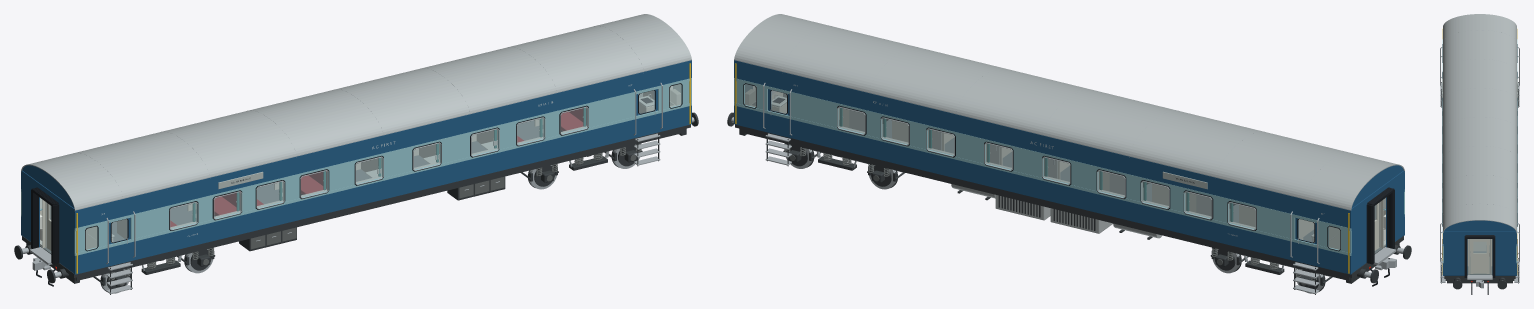
File: ICF_1A.fbx
The picture shows the model from 3 angles, left to right: view 1: azimuth 30°, elevation 25°; view 2: azimuth 150°, elevation 25°; view 3: azimuth 270°, elevation 25°; orthographic projection. The views are drawn at different scales.
Parts seen in each view (by area): view 1: Pressed steel roof shell, Lower blue bodyside, Upper blue letterboard, Longitudinal underframe solebar, Structural coach floor, Cyan horizontal window band, Cyan horizontal window band.001, Finished lino floor, Window zone pier.011, Coach end wall, Window zone pier.002, Window zone pier.007 (+13 smaller); view 2: Pressed steel roof shell, Lower blue bodyside.001, Upper blue letterboard.001, Longitudinal underframe solebar.001, Structural coach floor, Cyan horizontal window band.002, Cyan horizontal window band.003, Window zone pier.024, Coach end wall.001, Window zone pier.015, Finished lino floor, Underslung air conditioning condenser (+15 smaller); view 3: Pressed steel roof shell, Coach end wall.002, Coach end wall.003, Curved end roof cap.001, End top header.001, Vestibule lower door.001, Buffer beam, Cyan horizontal window band.001, Cyan horizontal window band.003, Finished lino floor, Saloon end bulkhead.002, Gangway bellows pleat.026 (+10 smaller).
Boxes of the visible parts, x1=… form: Pressed steel roof shell: x1=21, y1=14, x2=691, y2=211; Lower blue bodyside: x1=74, y1=105, x2=691, y2=274; Upper blue letterboard: x1=74, y1=60, x2=691, y2=229; Longitudinal underframe solebar: x1=75, y1=128, x2=686, y2=280; Structural coach floor: x1=22, y1=124, x2=690, y2=277; Cyan horizontal window band: x1=74, y1=103, x2=691, y2=255; Cyan horizontal window band.001: x1=74, y1=78, x2=691, y2=231; Finished lino floor: x1=40, y1=119, x2=543, y2=253; Window zone pier.011: x1=587, y1=94, x2=635, y2=127; Coach end wall: x1=57, y1=198, x2=74, y2=273; Window zone pier.002: x1=130, y1=208, x2=169, y2=239; Window zone pier.007: x1=382, y1=149, x2=412, y2=177; Pressed steel roof shell: x1=734, y1=14, x2=1404, y2=210; Lower blue bodyside.001: x1=734, y1=105, x2=1351, y2=274; Upper blue letterboard.001: x1=734, y1=60, x2=1351, y2=230; Longitudinal underframe solebar.001: x1=739, y1=128, x2=1350, y2=280; Structural coach floor: x1=735, y1=124, x2=1403, y2=277; Cyan horizontal window band.002: x1=734, y1=103, x2=1351, y2=255; Cyan horizontal window band.003: x1=734, y1=78, x2=1351, y2=231; Window zone pier.024: x1=790, y1=94, x2=838, y2=127; Coach end wall.001: x1=1351, y1=206, x2=1366, y2=273; Window zone pier.015: x1=1256, y1=208, x2=1295, y2=239; Finished lino floor: x1=839, y1=120, x2=1385, y2=253; Underslung air conditioning condenser: x1=1050, y1=208, x2=1112, y2=233; Pressed steel roof shell: x1=1443, y1=14, x2=1516, y2=233; Coach end wall.002: x1=1444, y1=232, x2=1467, y2=275; Coach end wall.003: x1=1492, y1=232, x2=1515, y2=275; Curved end roof cap.001: x1=1444, y1=220, x2=1515, y2=231; End top header.001: x1=1444, y1=231, x2=1515, y2=236; Vestibule lower door.001: x1=1472, y1=253, x2=1487, y2=273; Buffer beam: x1=1447, y1=279, x2=1512, y2=283; Cyan horizontal window band.001: x1=1442, y1=39, x2=1443, y2=246; Cyan horizontal window band.003: x1=1516, y1=39, x2=1517, y2=246; Finished lino floor: x1=1467, y1=245, x2=1492, y2=274; Saloon end bulkhead.002: x1=1470, y1=239, x2=1486, y2=251; Gangway bellows pleat.026: x1=1464, y1=238, x2=1467, y2=277.
Bounding box in the file's own units: 350 × 2246 × 405.
